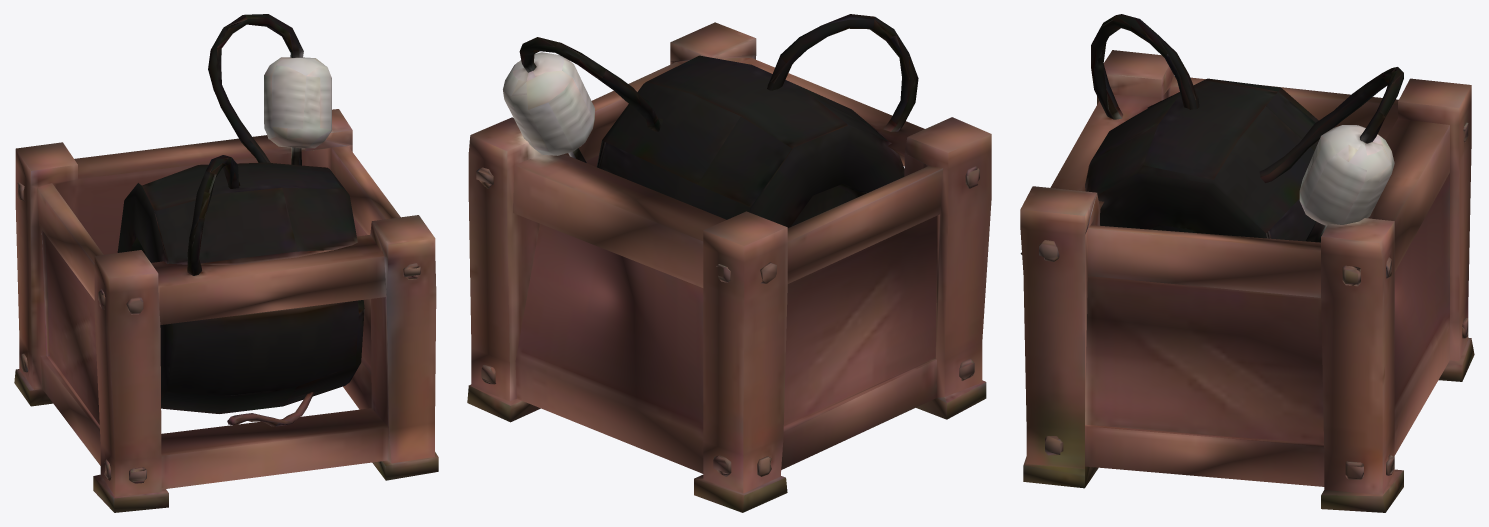
Rendered from wyn_accord_cord_crate.glb.
The picture shows the model from 3 angles, left to right: view 1: azimuth 30°, elevation 25°; view 2: azimuth 150°, elevation 25°; view 3: azimuth 270°, elevation 25°; orthographic projection. The views are drawn at different scales.
Parts seen in each view (by area): view 1: tripo_node_ff590808-50c6-4f06-ab31-71f0ac39f254; view 2: tripo_node_ff590808-50c6-4f06-ab31-71f0ac39f254; view 3: tripo_node_ff590808-50c6-4f06-ab31-71f0ac39f254.
Part boxes in pixels (x1,y1,x2,y2): tripo_node_ff590808-50c6-4f06-ab31-71f0ac39f254: [14, 14, 438, 512]; tripo_node_ff590808-50c6-4f06-ab31-71f0ac39f254: [467, 14, 991, 512]; tripo_node_ff590808-50c6-4f06-ab31-71f0ac39f254: [1020, 14, 1474, 512].
Size of the model in its own units: 0.6296 by 0.6 by 0.6254.
Materials: 1 (1 with a texture image).
